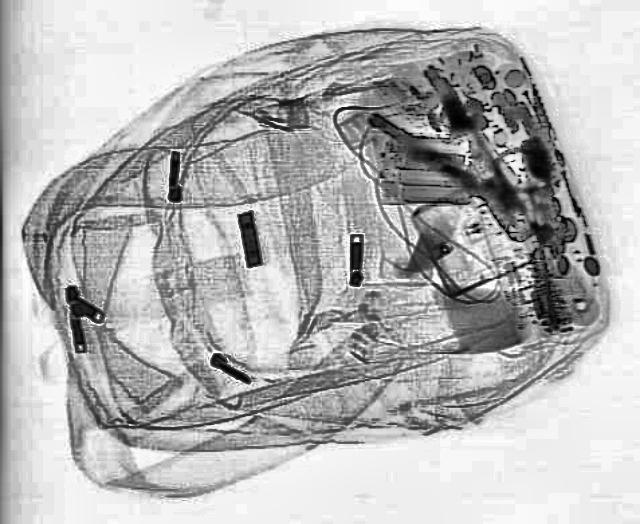Pliers: (360, 70, 574, 254)
